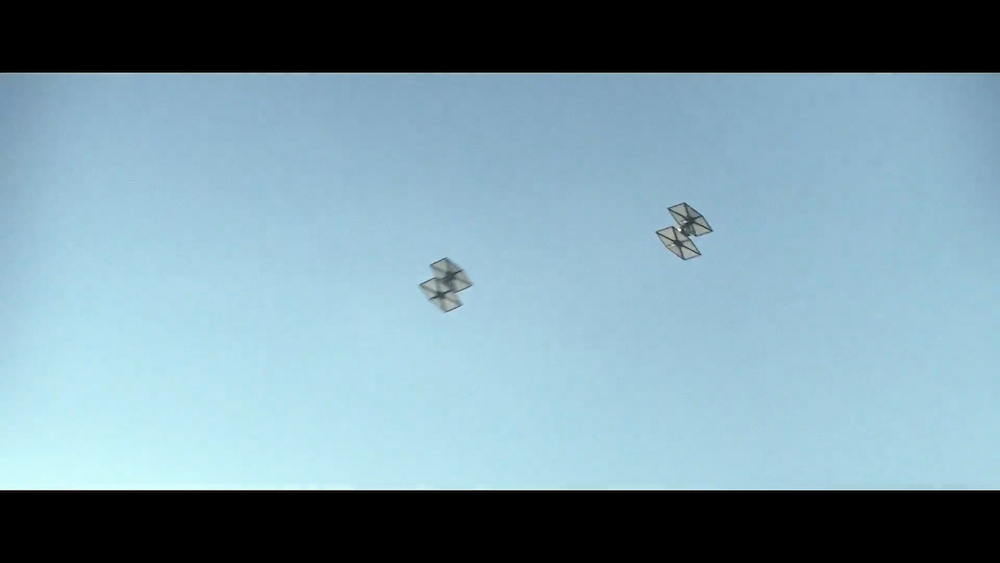Tie Fighter: (656, 203, 714, 263), (419, 258, 474, 315)
